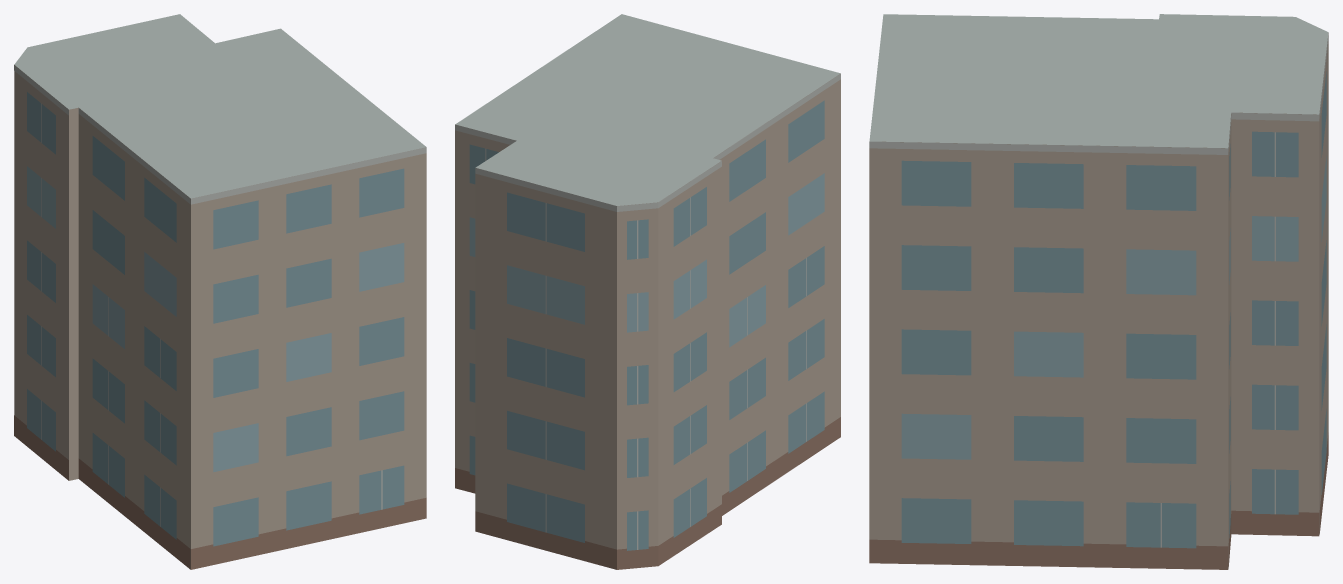
File: survey-upis-32864685.glb
3 views of the same model, side by side, from view 1: azimuth 30°, elevation 25°; view 2: azimuth 150°, elevation 25°; view 3: azimuth 270°, elevation 25° (orthographic). The views are drawn at different scales.
Visible parts, largest first — view 1: survey-upis-32864685.tmp; view 2: survey-upis-32864685.tmp; view 3: survey-upis-32864685.tmp.
Boxes of the visible parts, x1,y1,x2,y2 form: survey-upis-32864685.tmp: (14,14,426,569); survey-upis-32864685.tmp: (455,14,840,569); survey-upis-32864685.tmp: (869,14,1328,569).
Bounding box in the file's own units: 10.24 × 15 × 14.81.
